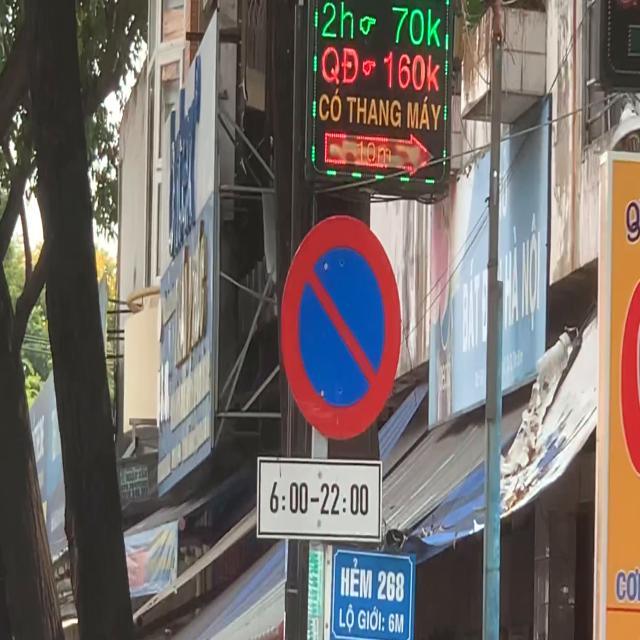Cam do: (280, 213, 401, 442)
